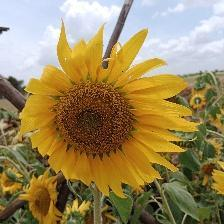sunflower: (15, 17, 199, 202), (29, 170, 64, 224), (1, 162, 26, 196), (212, 158, 224, 195), (190, 93, 206, 114), (214, 109, 224, 138)
